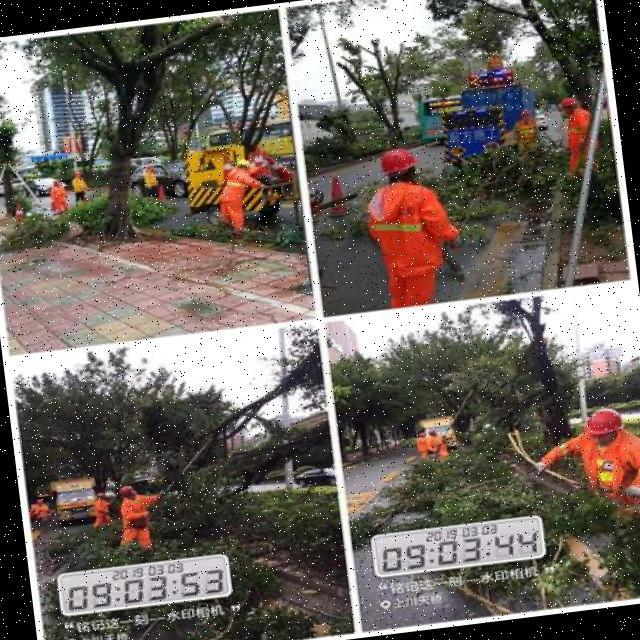fallen_object: (383, 419, 640, 628), (145, 502, 350, 624)
